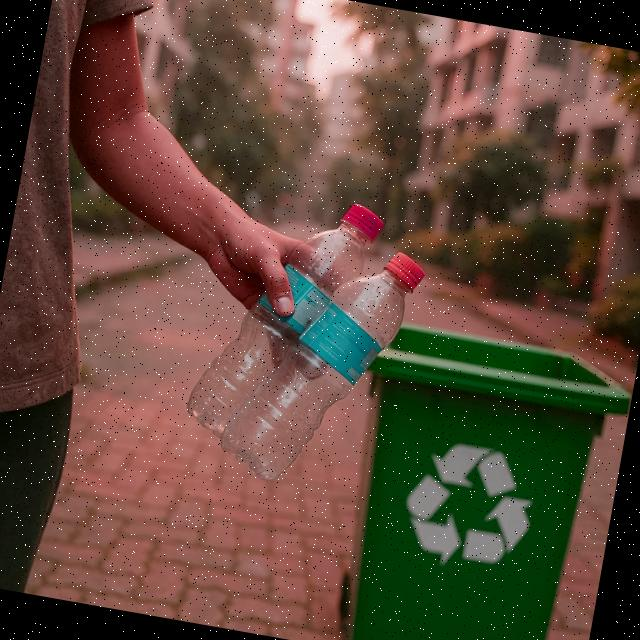plastic: (212, 226, 430, 504), (179, 182, 389, 464)
